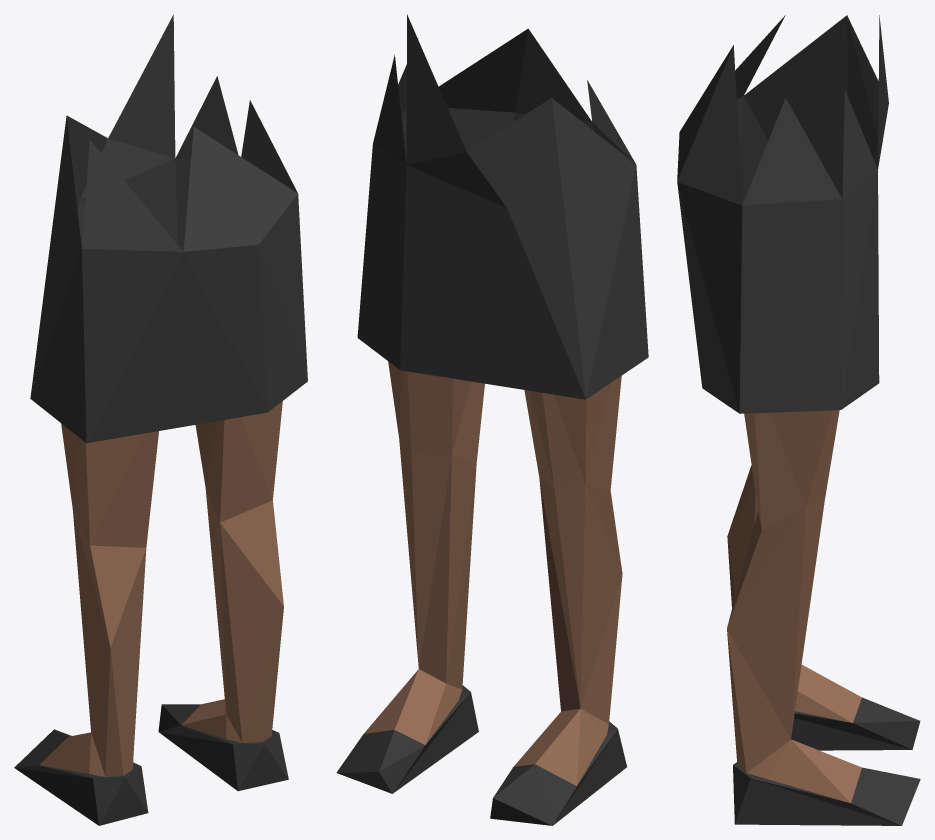
Rendered from Legs.obj.
3 views of the same model, side by side, from view 1: azimuth 30°, elevation 25°; view 2: azimuth 150°, elevation 25°; view 3: azimuth 270°, elevation 25° (orthographic). The views are drawn at different scales.
Bounding box in the file's own units: 0.3772 × 1.15 × 0.3244.
1 material, 1 textured.
